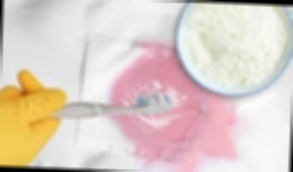wine: (129, 102, 234, 164), (109, 45, 175, 93), (105, 116, 139, 138), (180, 85, 199, 107), (113, 88, 120, 97)
